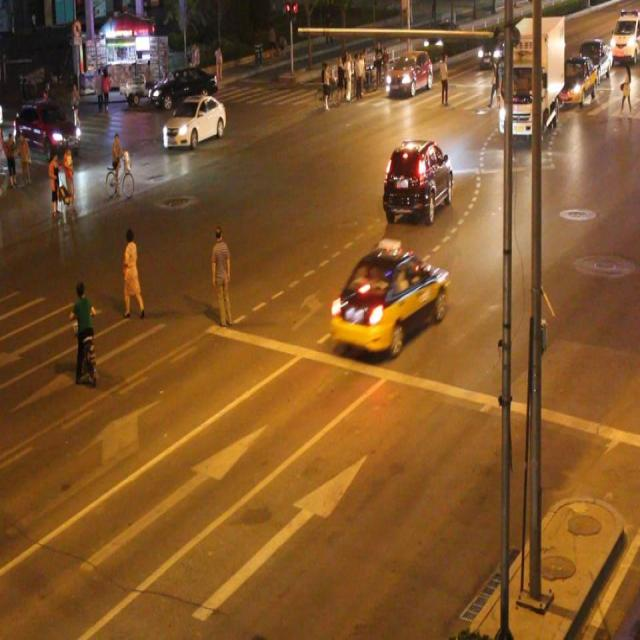bus: (496, 15, 566, 140)
car: (330, 245, 446, 355), (382, 140, 452, 218), (15, 101, 82, 159), (161, 95, 226, 146), (149, 64, 217, 102), (384, 49, 432, 96)
